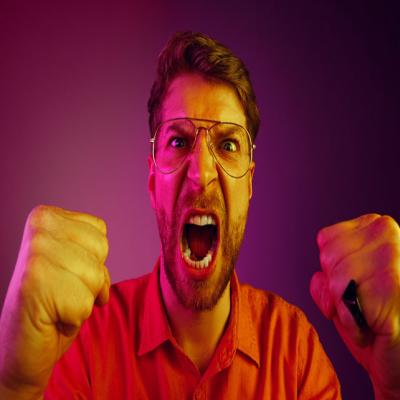angry: (158, 78, 250, 306)
